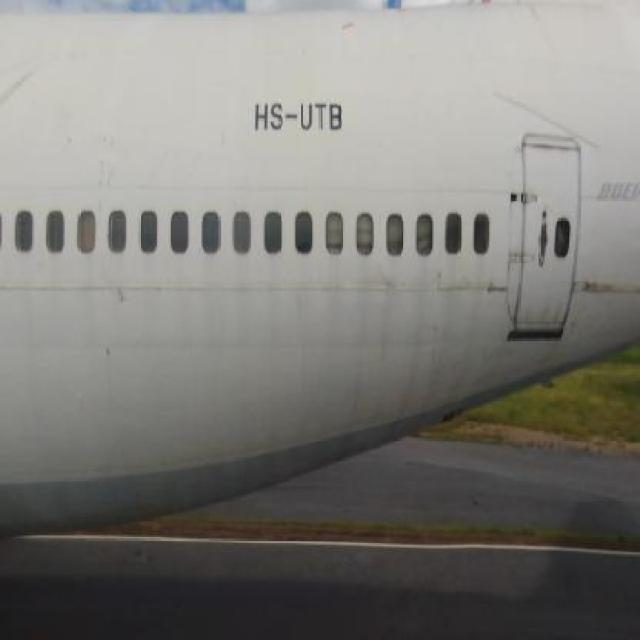Scartch: (432, 274, 510, 312), (569, 272, 640, 310), (0, 69, 54, 114)
